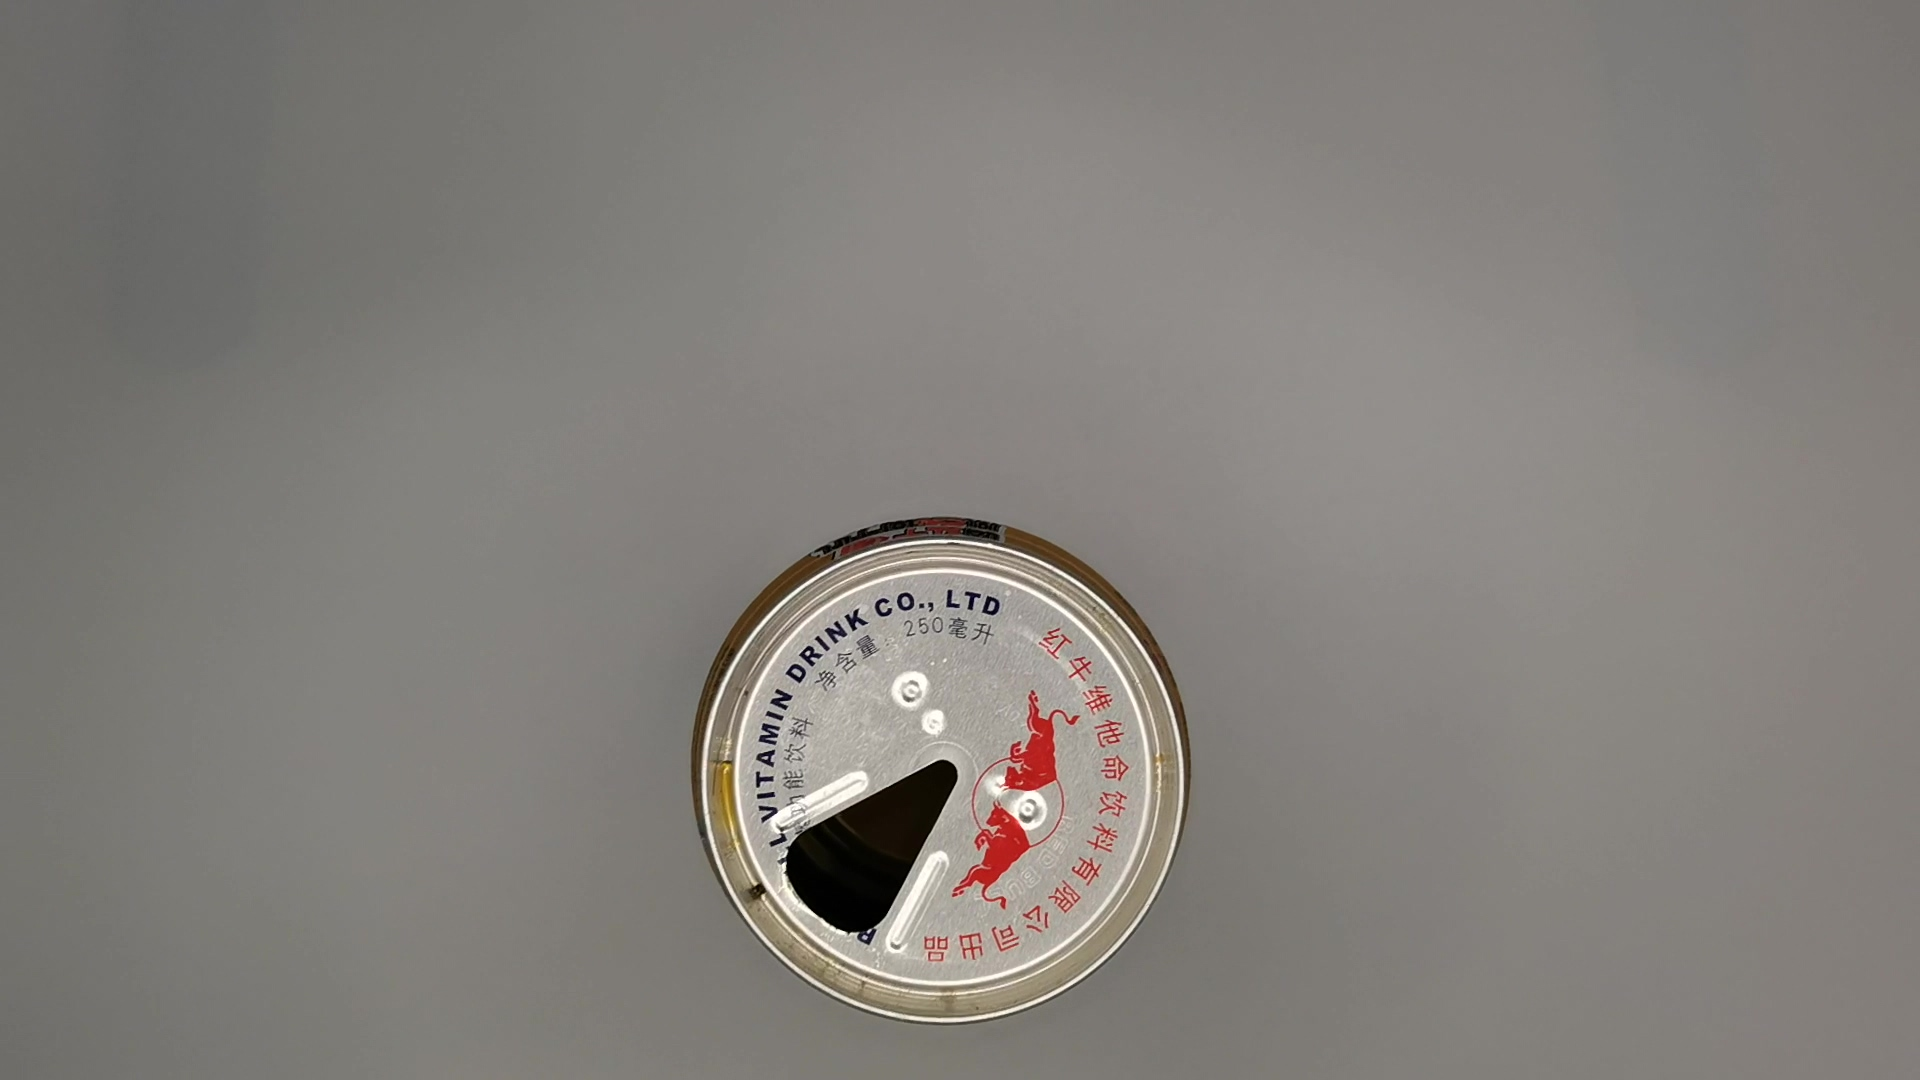can: (691, 506, 1208, 1029)
